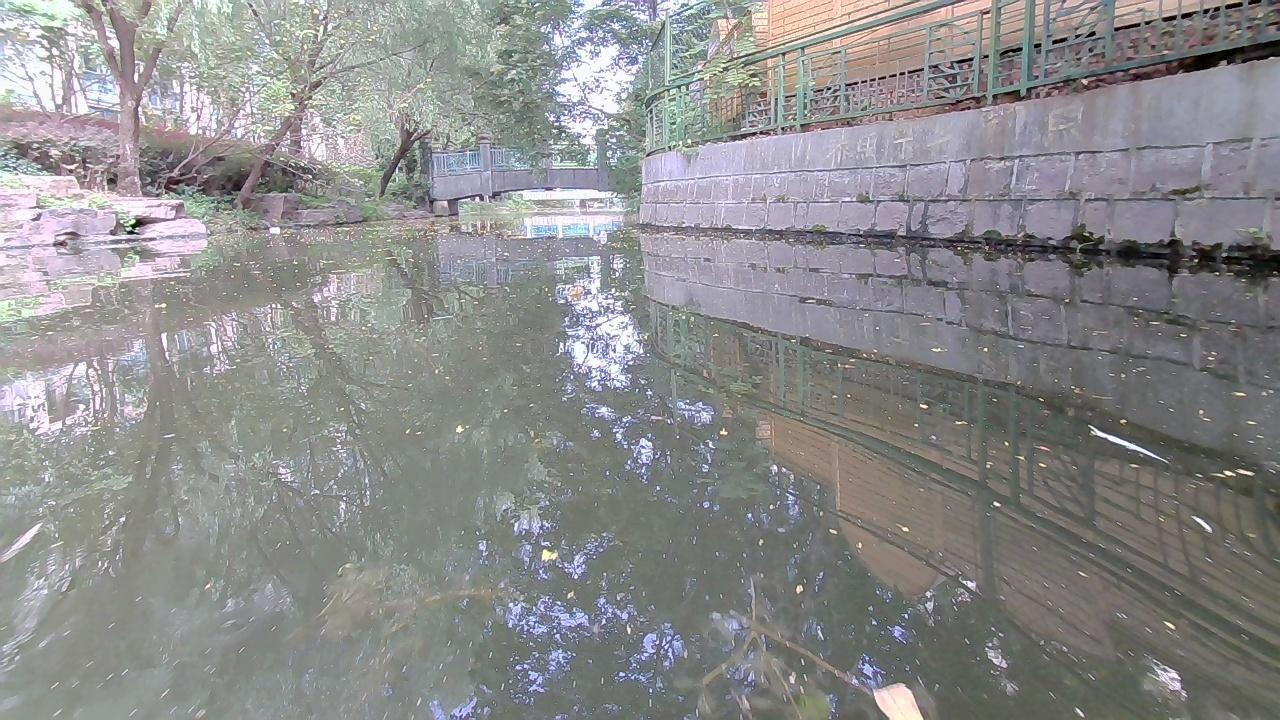bottle: (550, 279, 593, 304), (266, 224, 285, 234)
